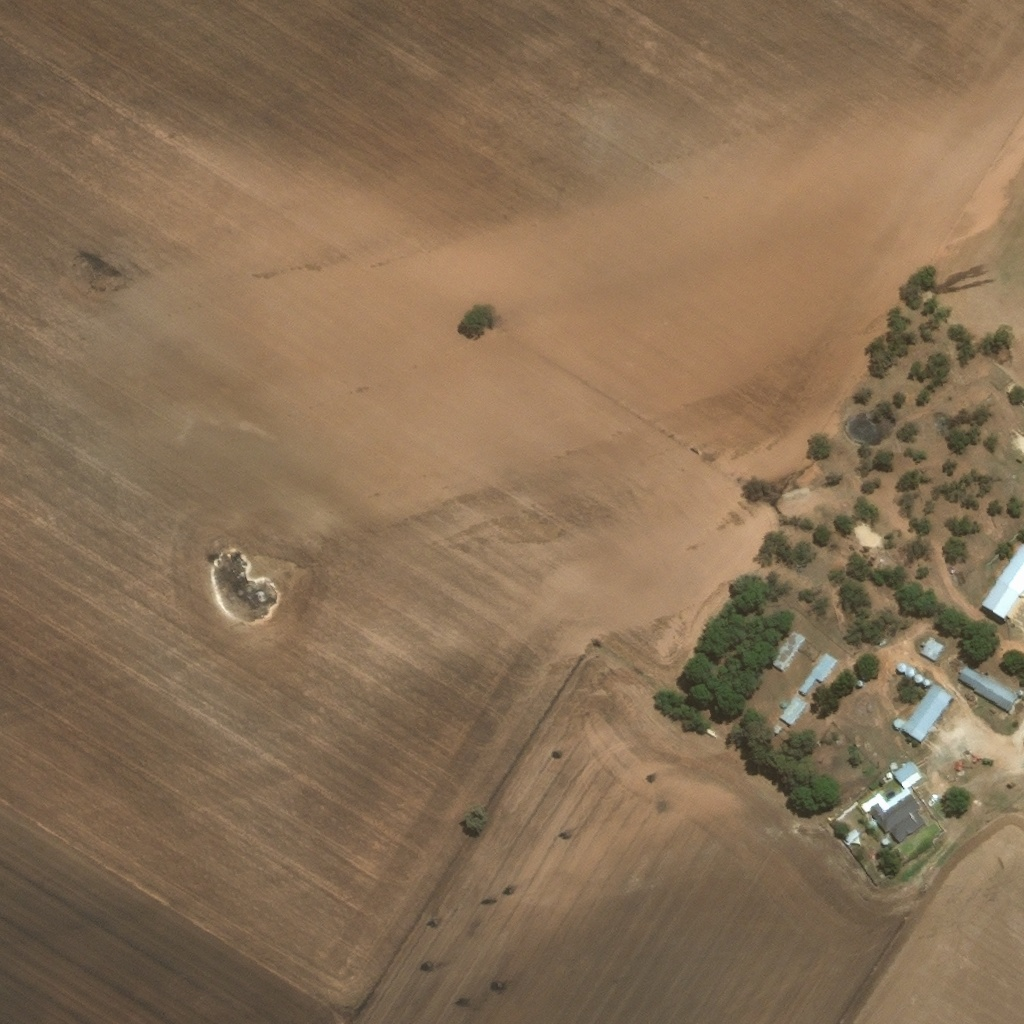0 no-damage: (859, 787, 927, 841), (981, 541, 1023, 618), (955, 664, 1018, 713), (901, 683, 951, 741), (797, 649, 837, 694), (768, 627, 806, 669), (891, 758, 922, 787), (778, 695, 807, 722), (918, 637, 942, 660), (981, 601, 1009, 620), (843, 827, 859, 842), (896, 660, 906, 671), (771, 723, 782, 733), (892, 718, 902, 728), (906, 665, 915, 675), (914, 672, 923, 680), (880, 837, 889, 844), (923, 677, 930, 685), (1016, 687, 1023, 694), (857, 678, 863, 684), (780, 700, 786, 706), (889, 763, 895, 768)
4 un-classified: (885, 662, 896, 672)
